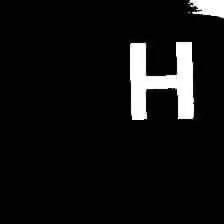LTR_H: (121, 33, 201, 123)
